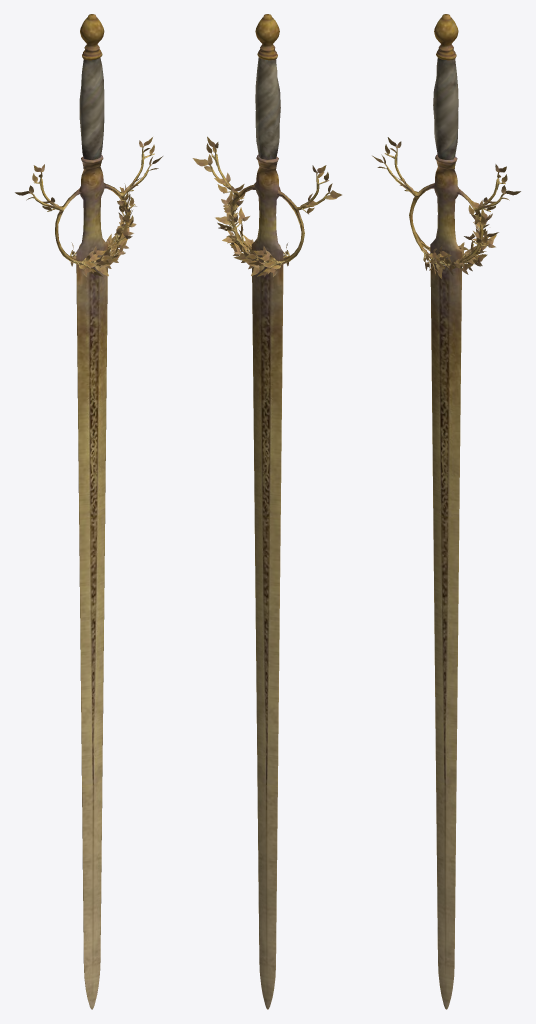
File: weapon-wp_a_0252.glb
3 renders of one model, left to right at view 1: azimuth 30°, elevation 25°; view 2: azimuth 150°, elevation 25°; view 3: azimuth 330°, elevation 25°, orthographic.
Visible parts, largest first — view 1: wp_a_0252_mesh; view 2: wp_a_0252_mesh; view 3: wp_a_0252_mesh.
Part boxes in pixels (x1,y1,x2,y2): wp_a_0252_mesh: (15,14,162,1009); wp_a_0252_mesh: (192,14,341,1009); wp_a_0252_mesh: (372,14,520,1009).
Bounding box in the file's own units: 0.2088 × 1.32 × 0.054.
1 material, 1 textured.
